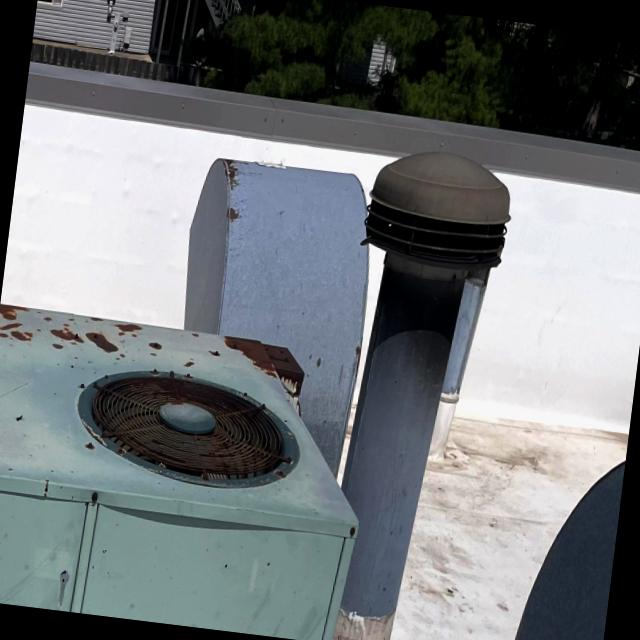GRAVITY-VENT: (306, 122, 519, 640)
RTU: (0, 282, 383, 640)
